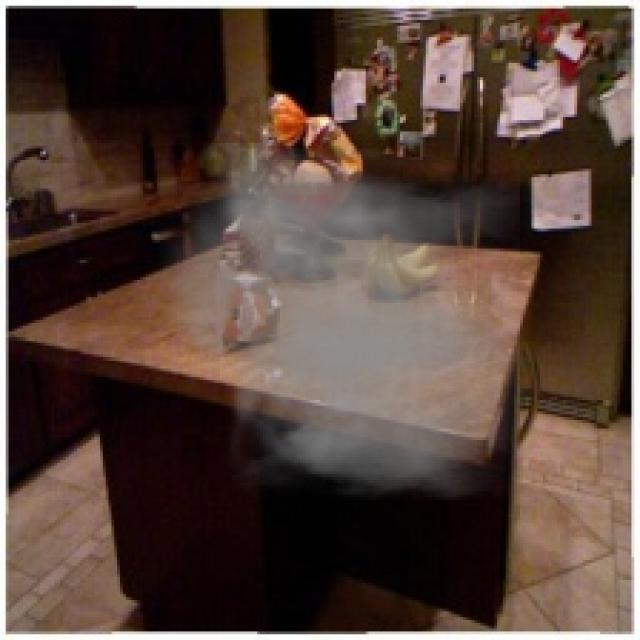Smoke: (148, 143, 520, 500)
